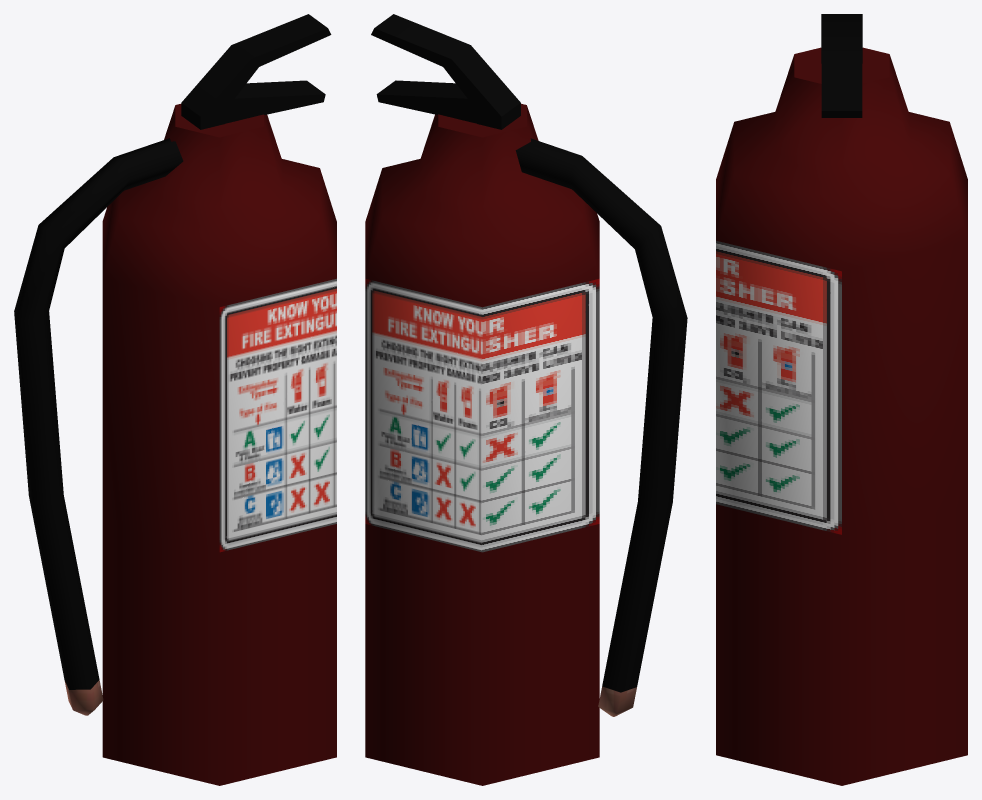
Rendered from _Fire_Extinguisher.FBX.
3 renders of one model, left to right at view 1: azimuth 30°, elevation 25°; view 2: azimuth 150°, elevation 25°; view 3: azimuth 270°, elevation 25°, orthographic. The views are drawn at different scales.
Parts seen in each view (by area): view 1: _Fire_Extinguisher; view 2: _Fire_Extinguisher; view 3: _Fire_Extinguisher.
Boxes of the visible parts, x1=… form: _Fire_Extinguisher: x1=14, y1=14, x2=336, y2=785; _Fire_Extinguisher: x1=365, y1=14, x2=687, y2=785; _Fire_Extinguisher: x1=716, y1=14, x2=967, y2=785.
Bounding box in the file's own units: 27.33 × 55.77 × 17.32.
Materials: 4 (2 with a texture image).
